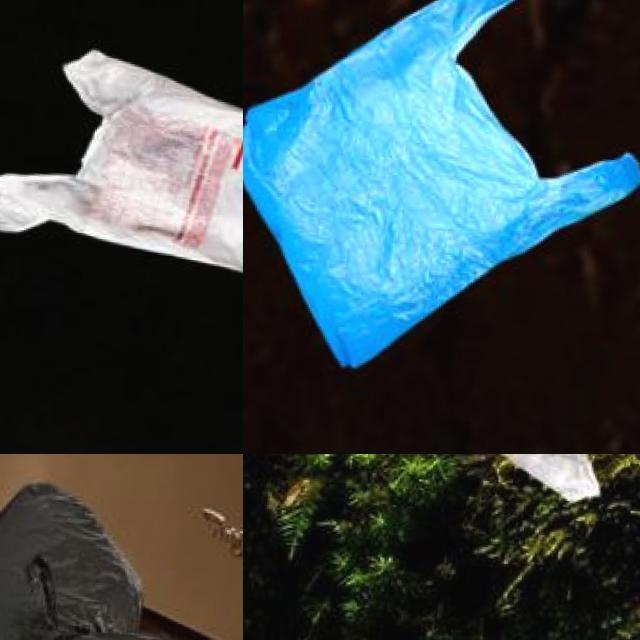waste: (243, 0, 640, 393), (47, 55, 243, 280), (0, 474, 149, 640)
